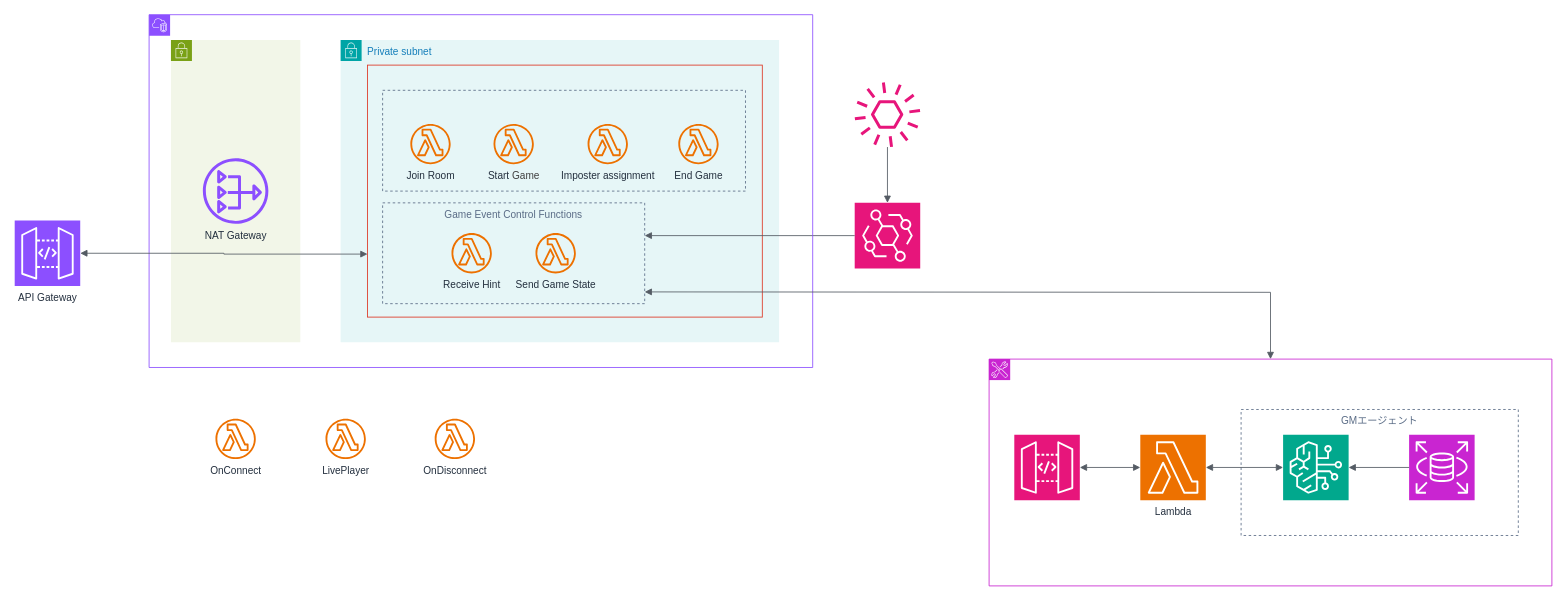
The diagram is 1567 pixels wide and 601 high, and some of its shapes have lost their labels. Here are the shapes that lost their labels. From the top down, the box of each, then its label:
(854, 81, 920, 147): Game Start Event
(382, 89, 746, 191): Room Control Functions
(170, 39, 300, 342): Public subnet
(148, 14, 813, 368): VPC
(367, 64, 762, 317): Lambda Security group
(988, 358, 1552, 586): LLMOps Pipeline
(1282, 434, 1349, 500): Bedrock Agent
(1408, 434, 1475, 500): RDS
